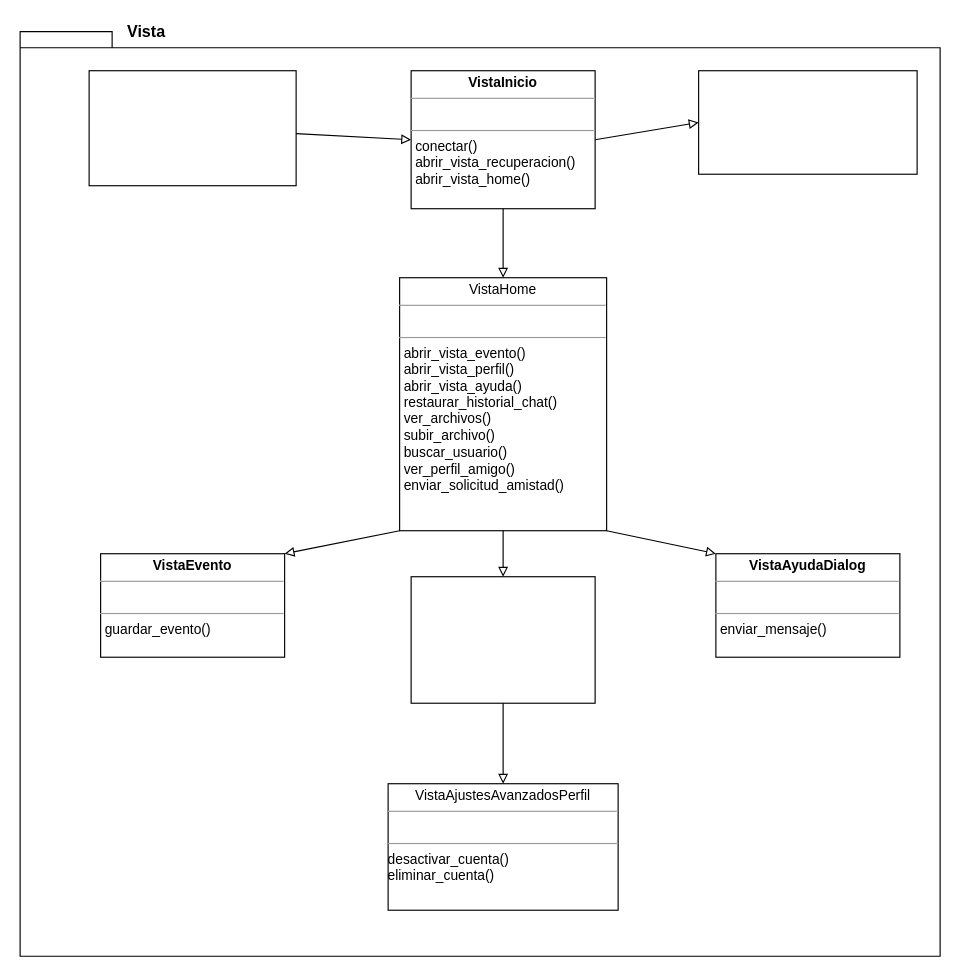
Image size: 960x976. Some labels were removed from this diagram. Each missing label, with the centre of its shape:
VistaPerfil editar_perfil() ajustes_avanzados(): (x=502, y=639)
VistaRecuperacionCuenta enviar_correo_recuperacion(): (x=807, y=122)
VistaRegistro comprobar_datos_registro() alta_usuario(): (x=192, y=128)
